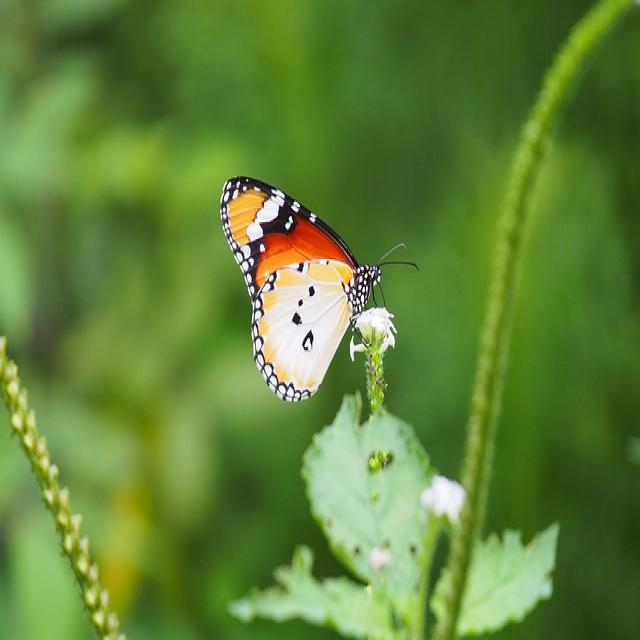butterfly: (219, 177, 396, 404)
